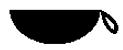Basket: (7, 5, 120, 47)
